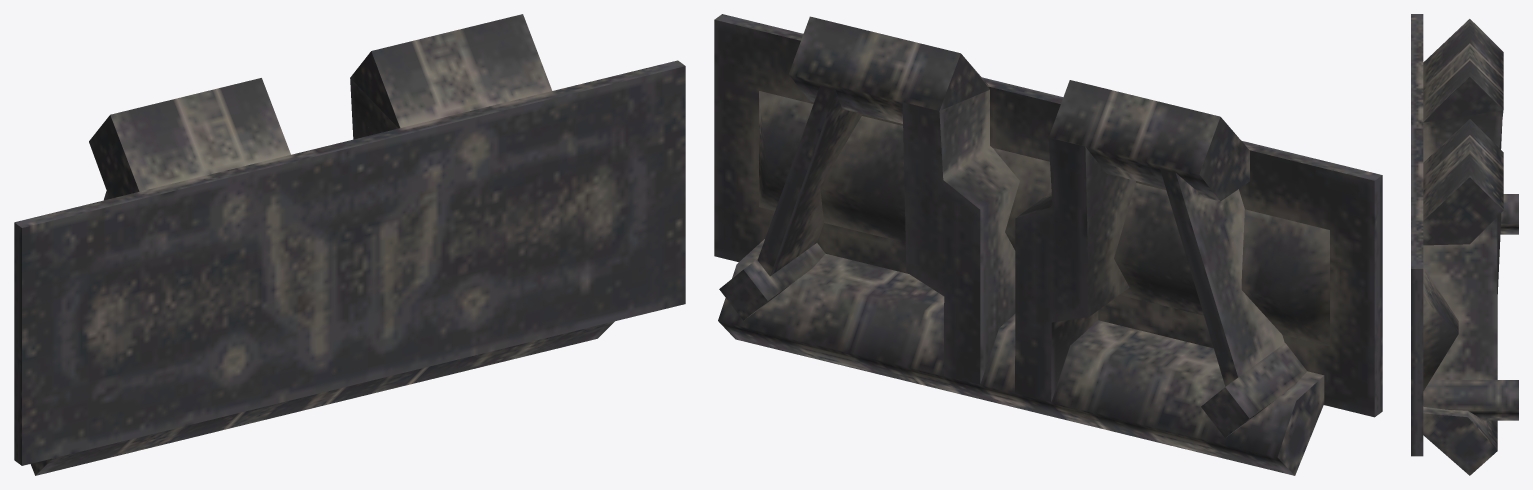
The model's file is A24_T2_med.glb.
3 renders of one model, left to right at view 1: azimuth 30°, elevation 25°; view 2: azimuth 150°, elevation 25°; view 3: azimuth 270°, elevation 25°, orthographic. The views are drawn at different scales.
Parts seen in each view (by area): view 1: set_0_group_0; view 2: set_0_group_0; view 3: set_0_group_0.
Boxes of the visible parts, box(x1,y1,x2,y2) form: set_0_group_0: box(14, 14, 685, 475); set_0_group_0: box(714, 14, 1382, 475); set_0_group_0: box(1411, 14, 1518, 475).
Bounding box in the file's own units: 0.365 × 0.1802 × 0.0652.
1 material, 1 textured.
